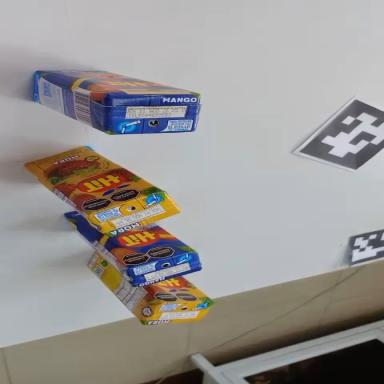HIT-MANGO: (25, 57, 204, 153), (55, 210, 207, 297)
HIT-MORA: (15, 124, 185, 261), (77, 250, 217, 341)
cara_F: (17, 124, 164, 242), (60, 177, 197, 294), (36, 54, 200, 116), (144, 275, 213, 304)
